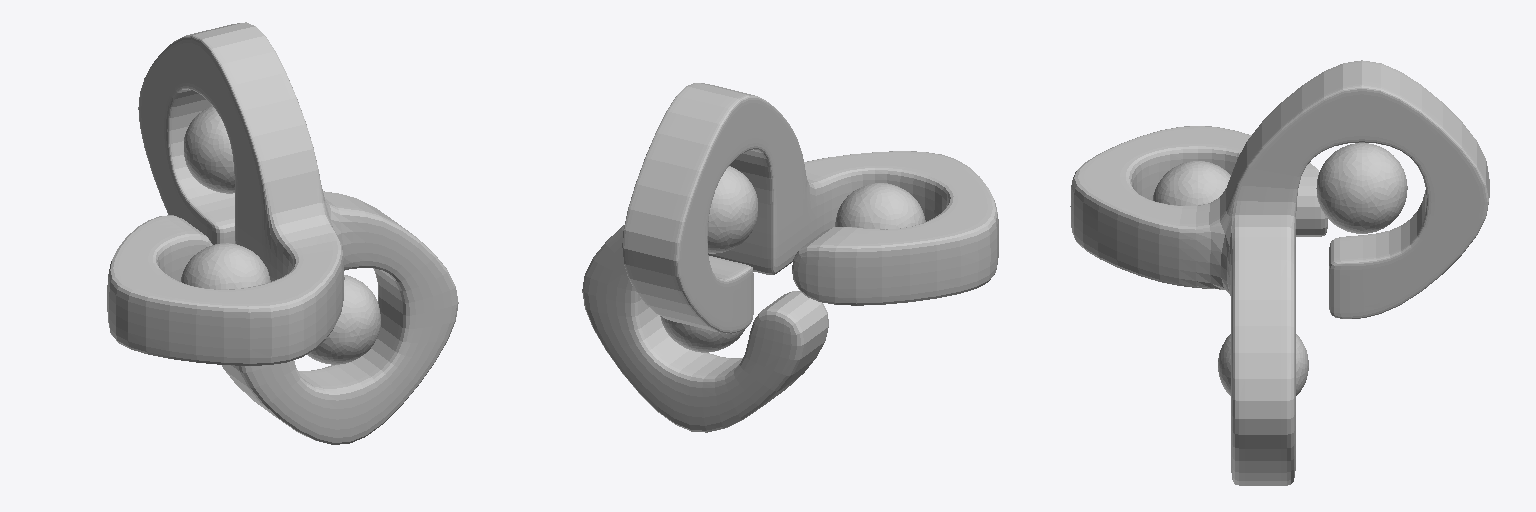
File: tri_shape.obj
3 views of the same model, side by side, from view 1: azimuth 30°, elevation 25°; view 2: azimuth 150°, elevation 25°; view 3: azimuth 270°, elevation 25° (orthographic).
Parts seen in each view (by area): view 1: Cube; view 2: Cube; view 3: Cube.
Part boxes in pixels (bbox=[...]): Cube: bbox=[107, 22, 458, 444]; Cube: bbox=[582, 83, 998, 432]; Cube: bbox=[1070, 60, 1489, 485].
Size of the model in its own units: 2.55 by 2.55 by 2.55.